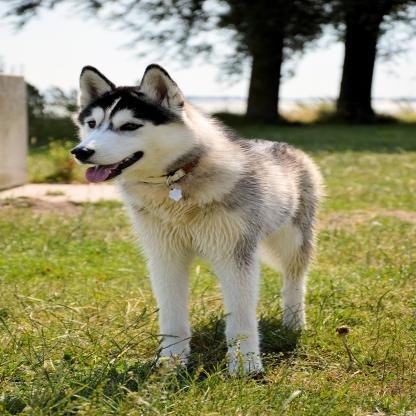husky: (68, 63, 326, 384)
